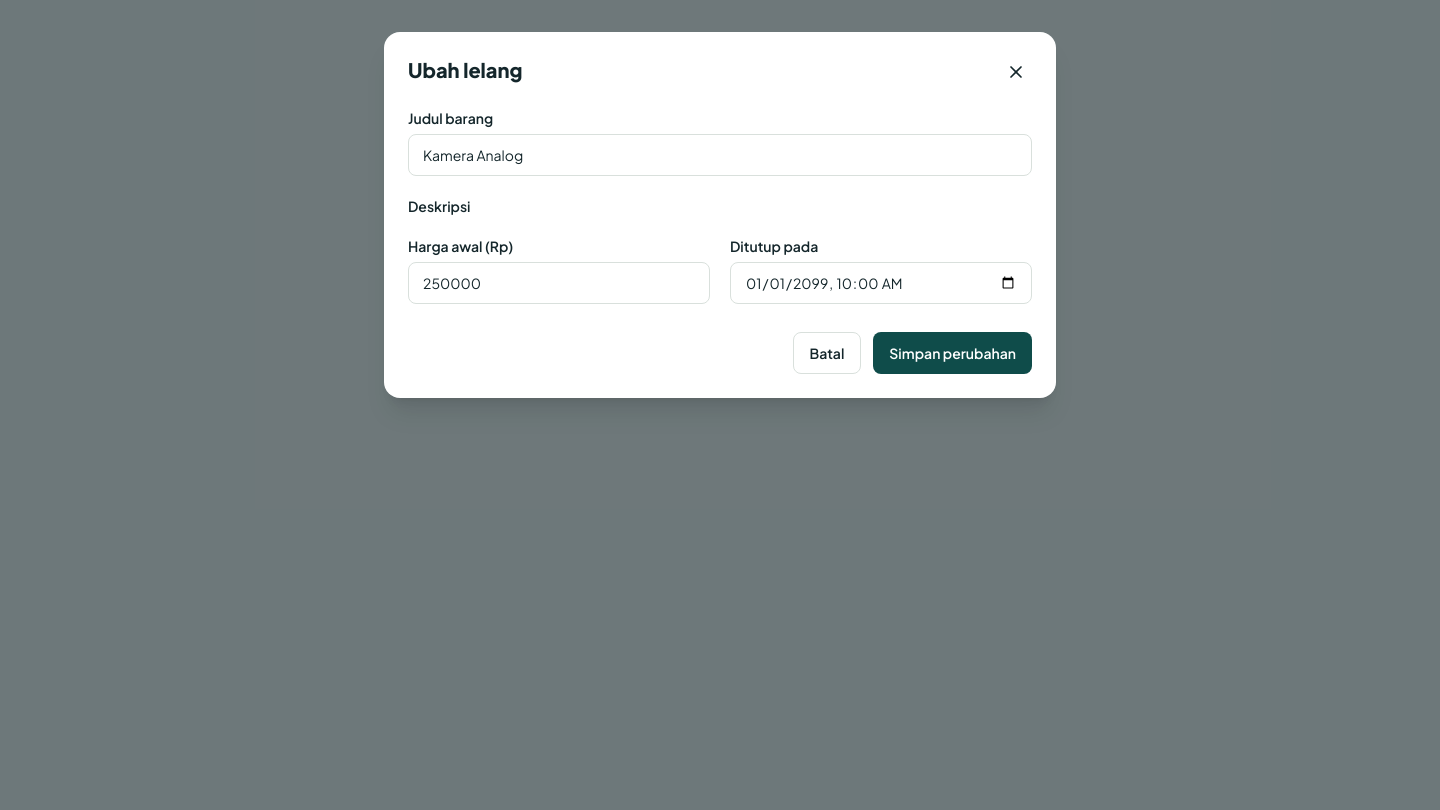
Test: ChangeModal › menolak batas waktu penutupan di masa lalu
Replace the text in the field labelled "Ditutup pada" with "2000-01-01T10:00": [881, 283] box [730, 262, 1032, 304]
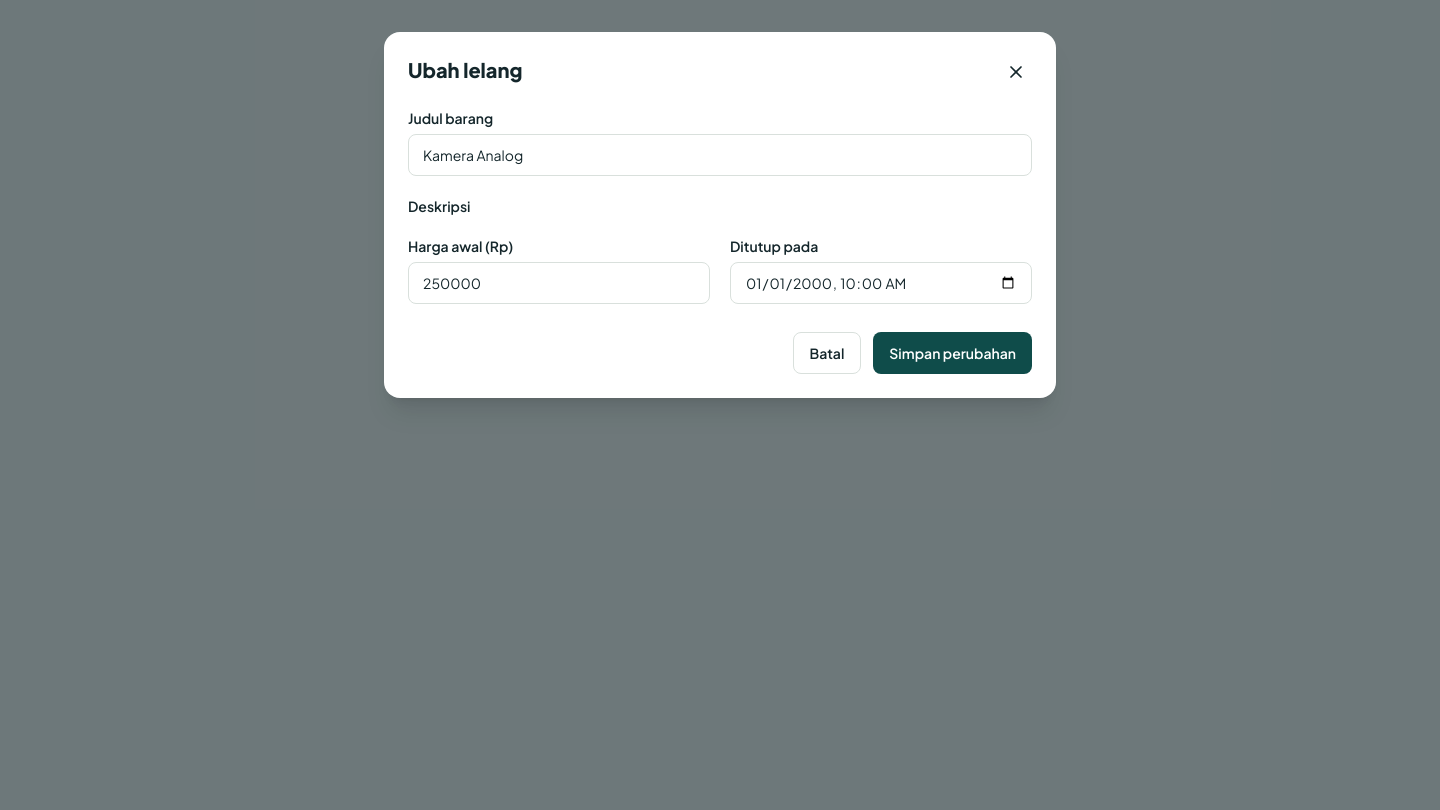
Click the button "Simpan perubahan": [953, 353] box [873, 332, 1032, 374]
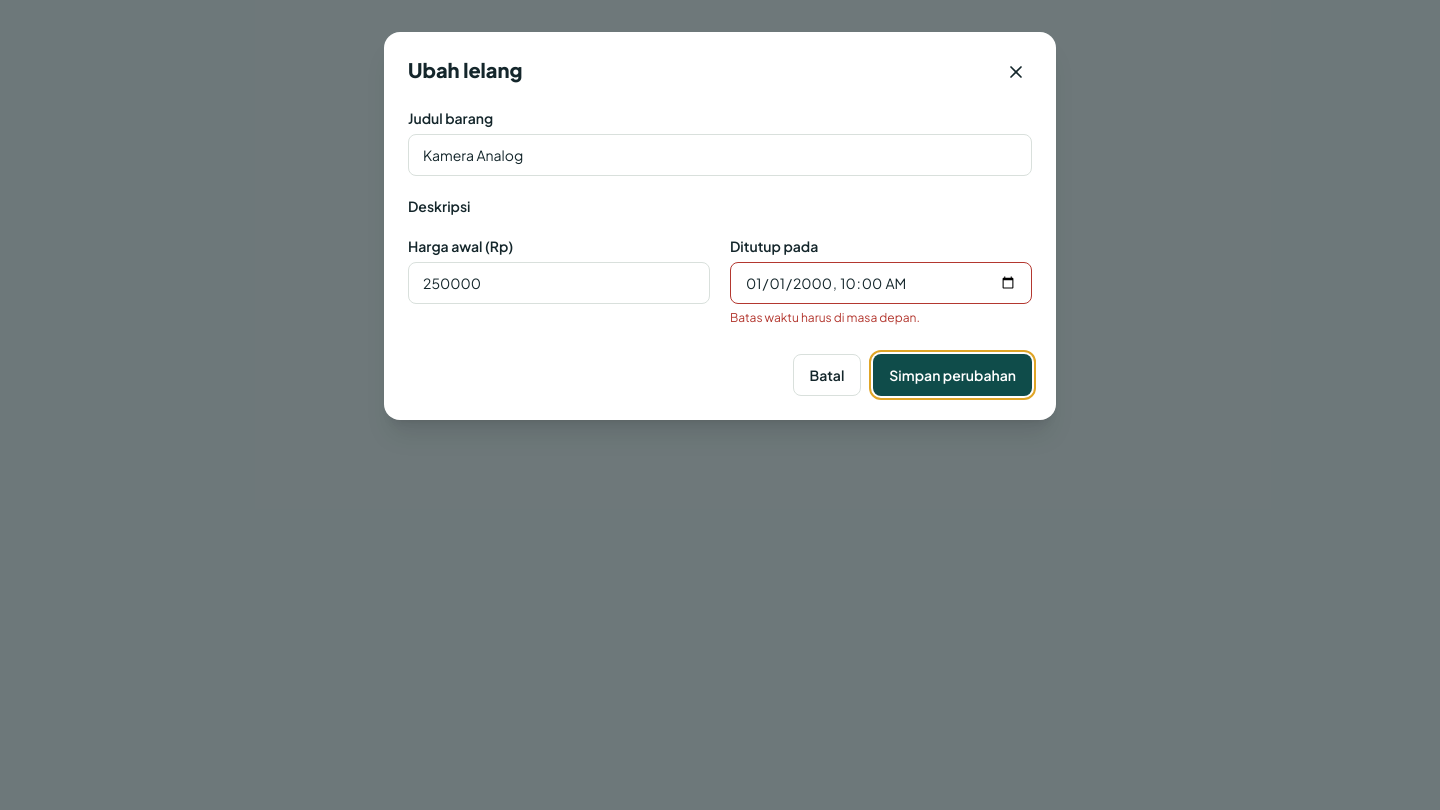
Expected: the text "Batas waktu harus di masa depan." is shown, [730, 310, 920, 325]
